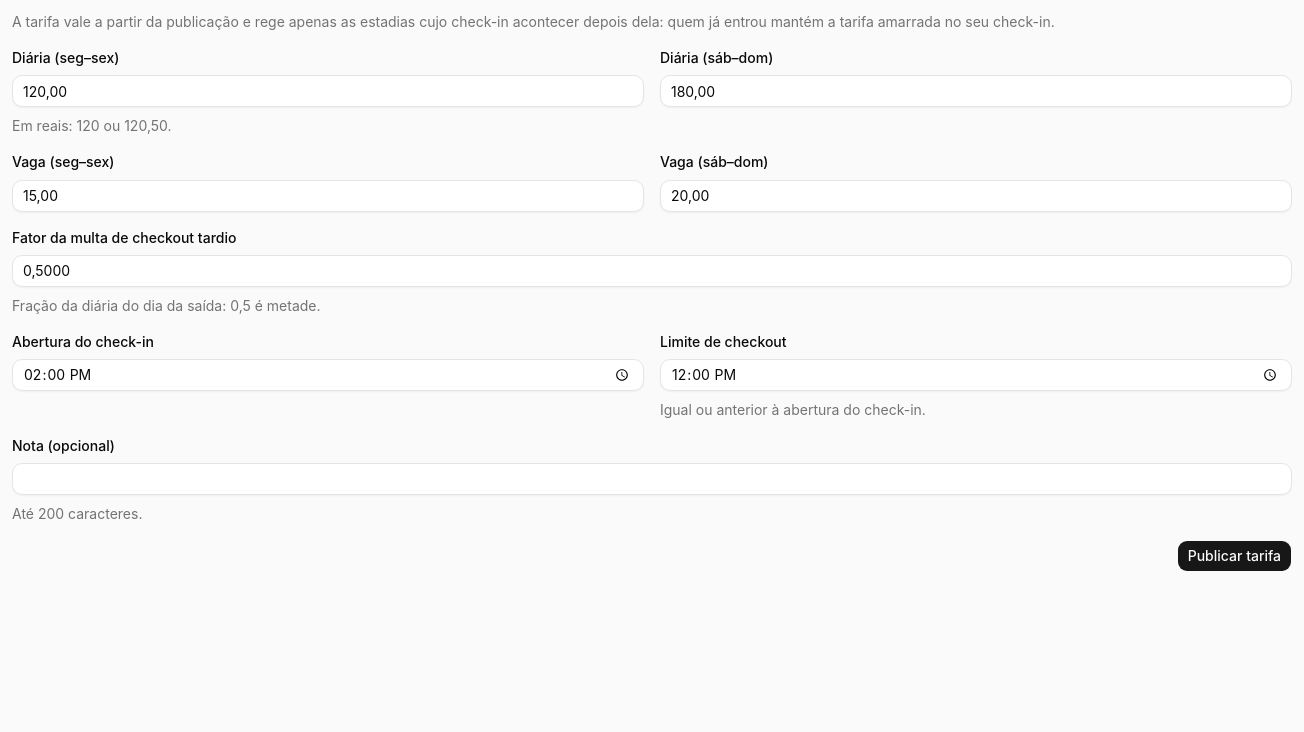
Test: PolicyForm › devolve ao campo culpado o 400 do servidor
Click the button "Publicar tarifa": click(1234, 556) [1177,540,1292,572]
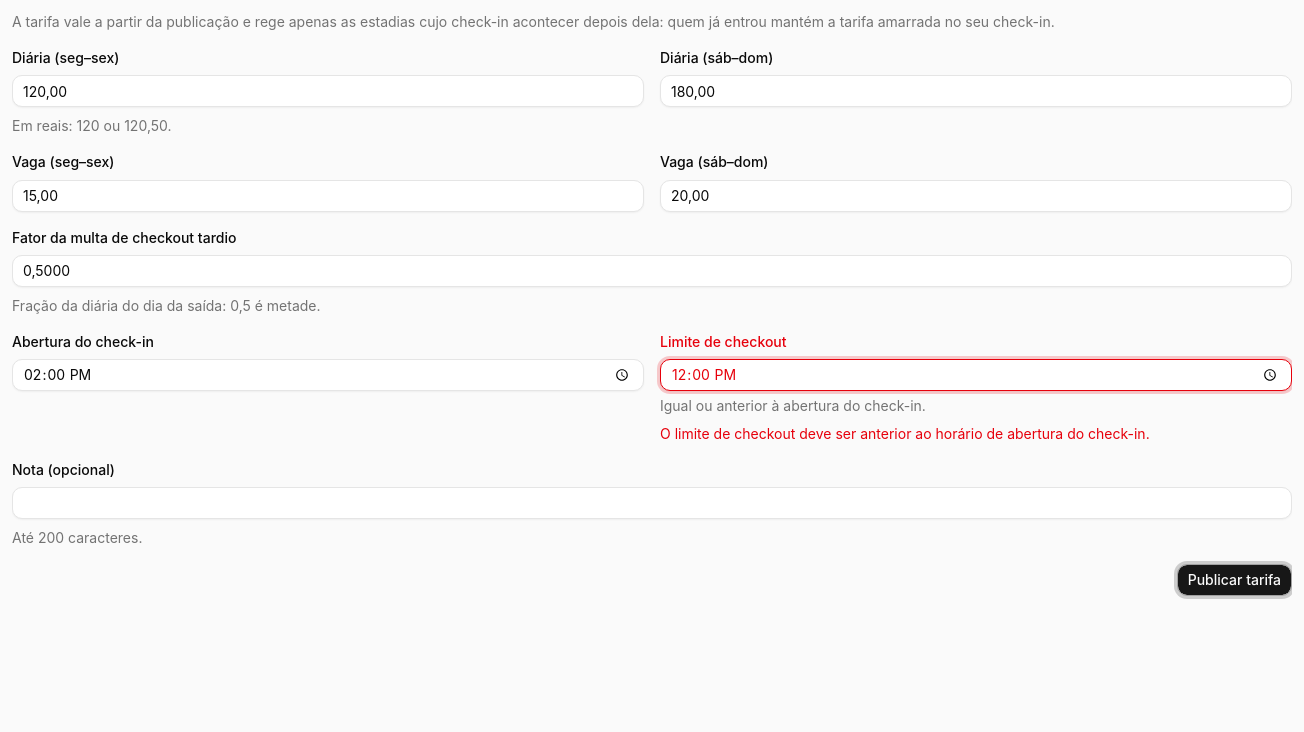
Expected: the text "O limite de checkout deve ser anterior ao horário de abertura do check-in." is shown, [660,425,1150,442]
